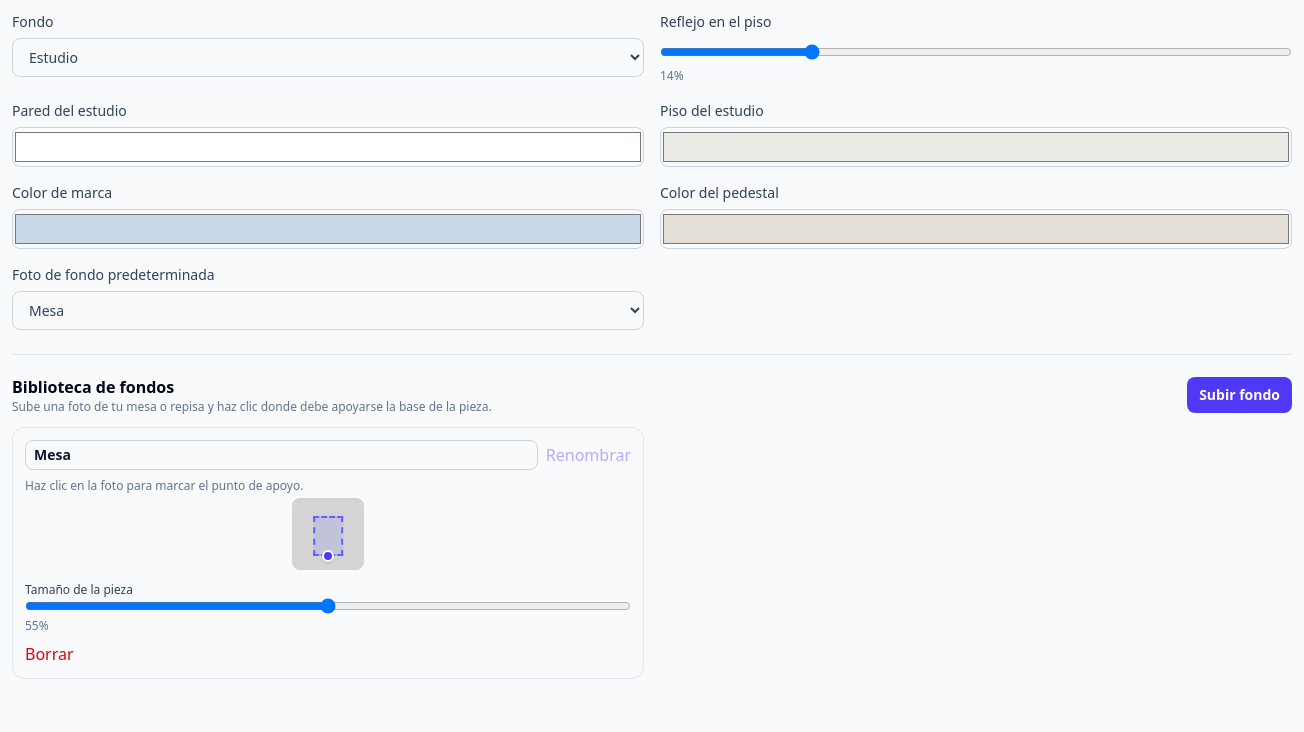
Scenario: al borrar el fondo predeterminado lo quita del borrador
The image size is (1304, 732).
Click the button "Borrar".
click(49, 654)  # box [25,642,74,666]
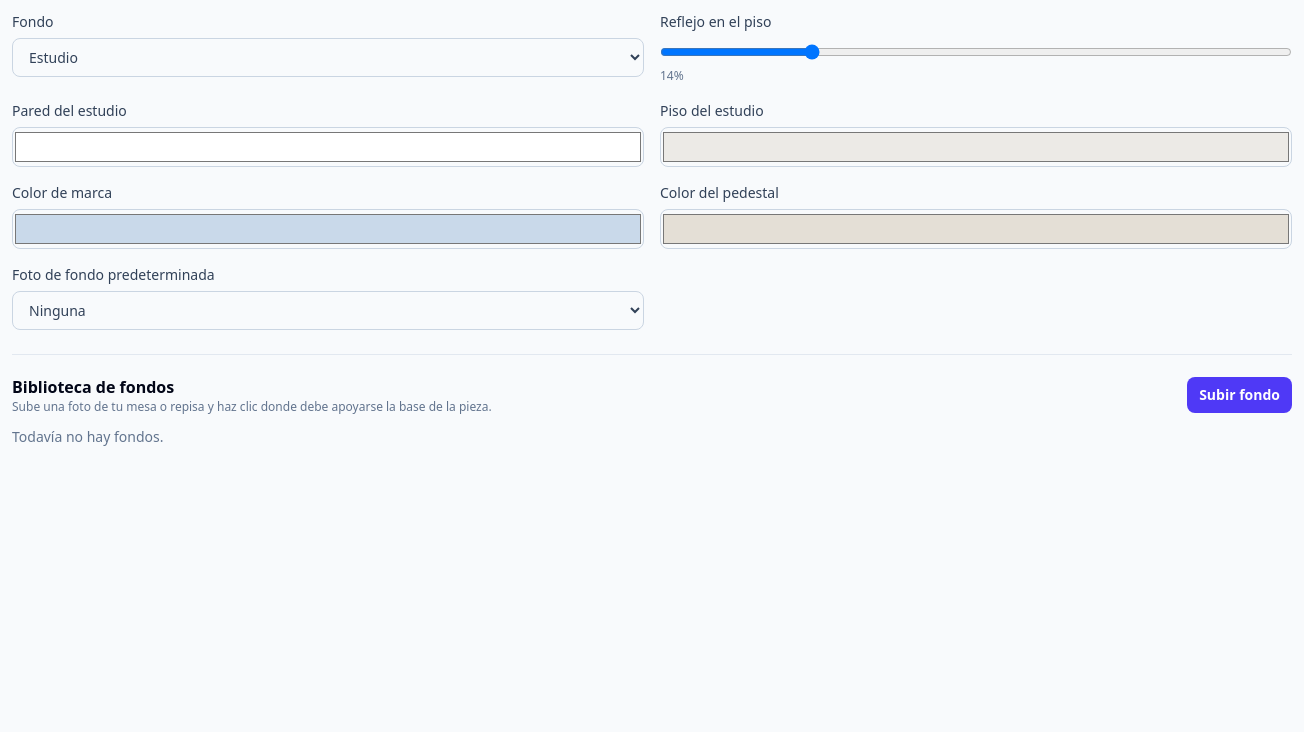
Now the text "Todavía no hay fondos." is shown, box [12,427,164,446]
